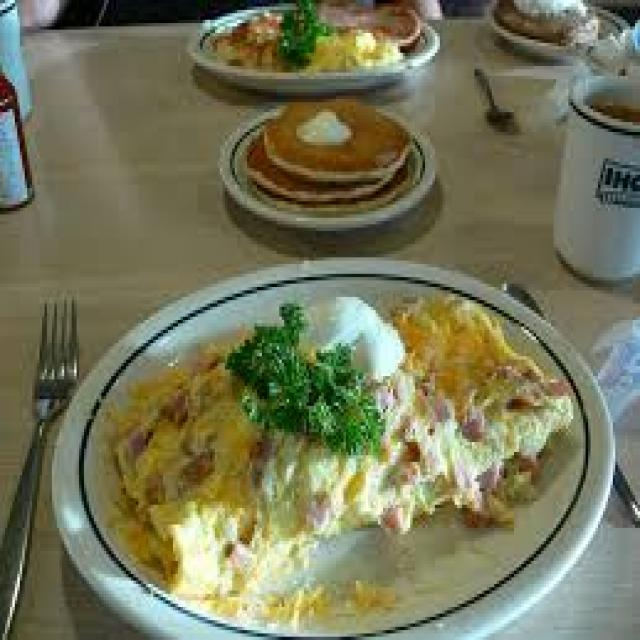Omelette: (104, 287, 571, 584), (200, 13, 408, 69)
Pancakes: (232, 89, 415, 208)
